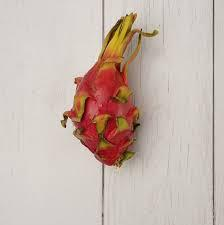dragon fruit: (60, 10, 159, 167)
